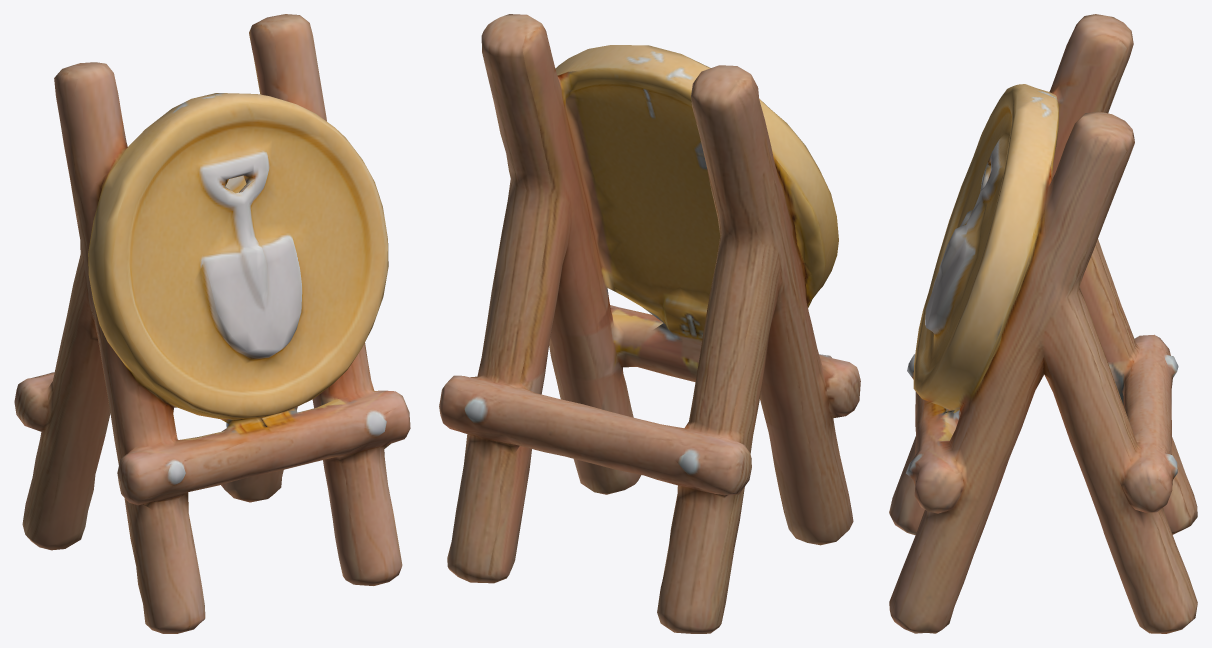
Rendered from Prop_ConstructionSign.glb.
3 renders of one model, left to right at view 1: azimuth 30°, elevation 25°; view 2: azimuth 150°, elevation 25°; view 3: azimuth 270°, elevation 25°, orthographic. The views are drawn at different scales.
Parts seen in each view (by area): view 1: input; view 2: input; view 3: input.
Boxes of the visible parts, x1,y1,x2,y2 form: input: (14, 14, 410, 633); input: (439, 14, 860, 633); input: (889, 14, 1197, 633).
Bounding box in the file's own units: 0.5916 × 1 × 0.5504.
1 material, 1 textured.
